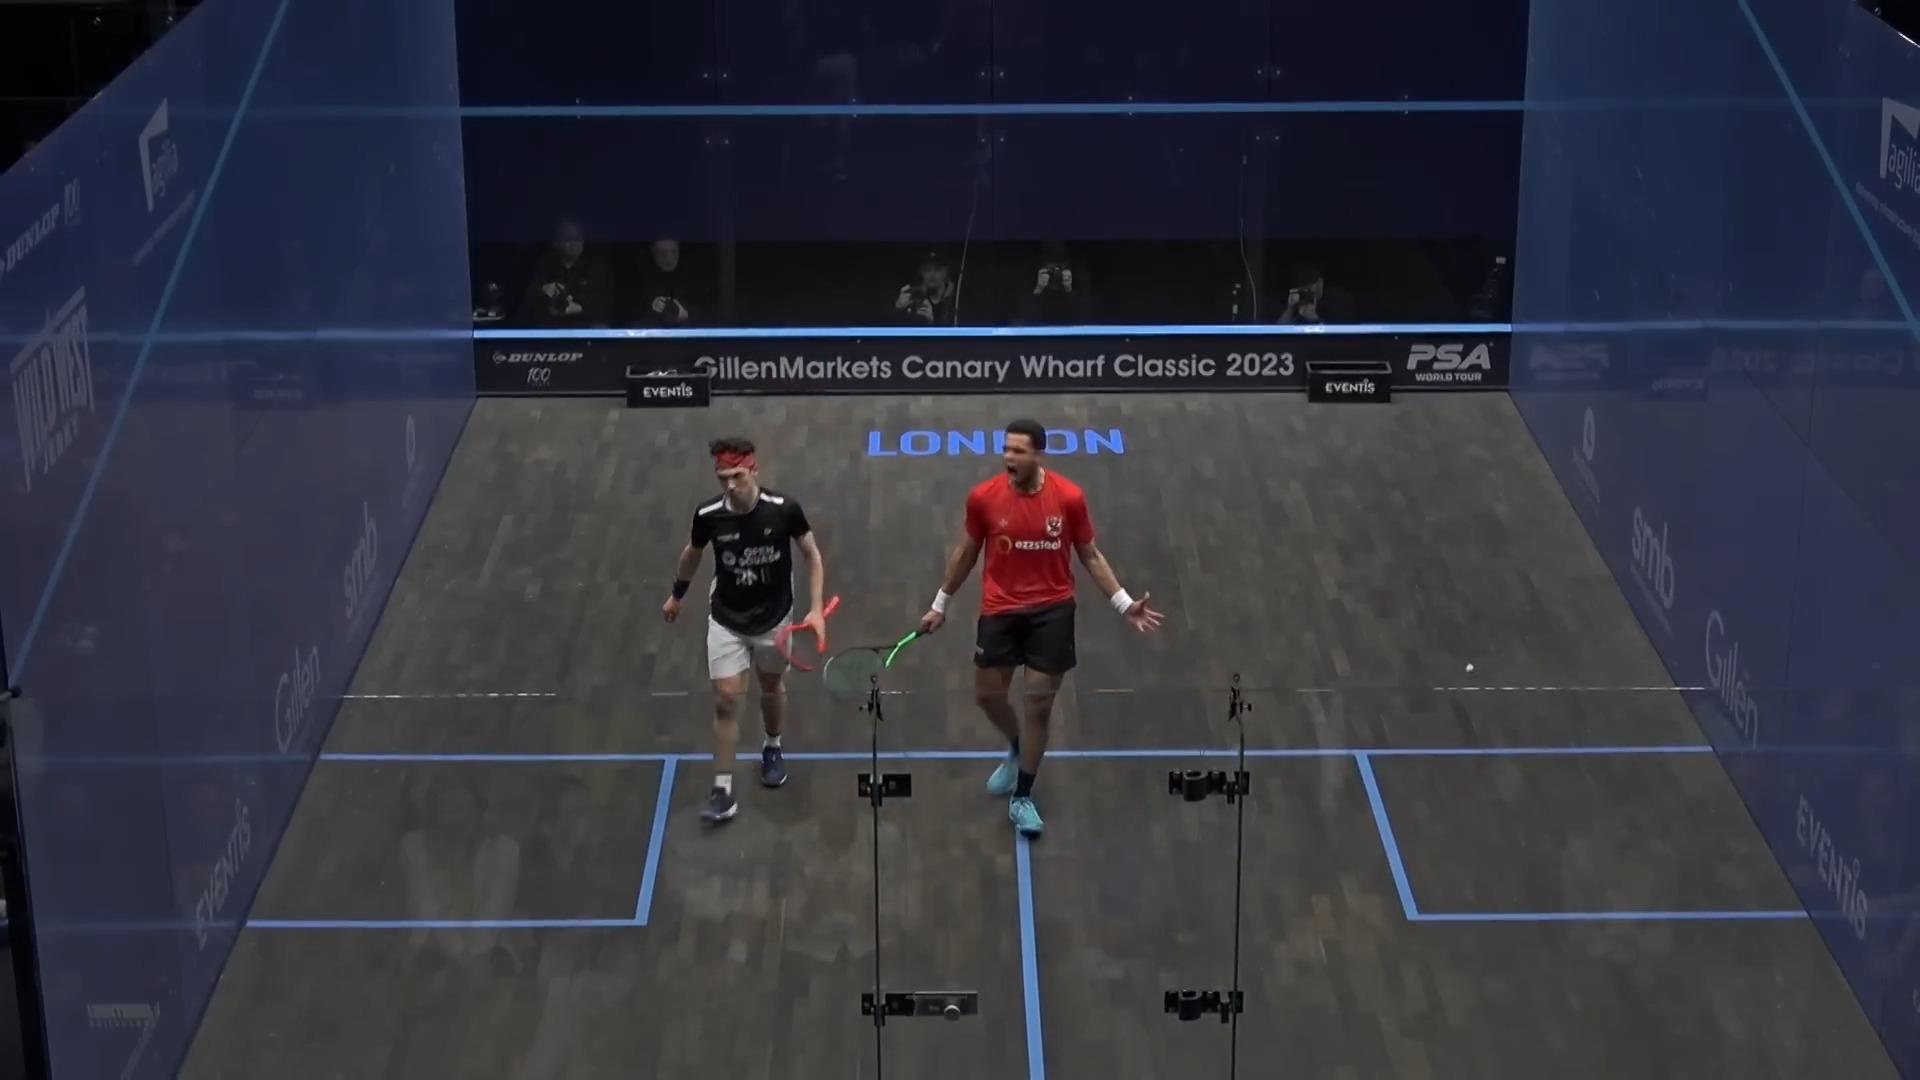Racket: (819, 628, 936, 715), (770, 591, 855, 680)
